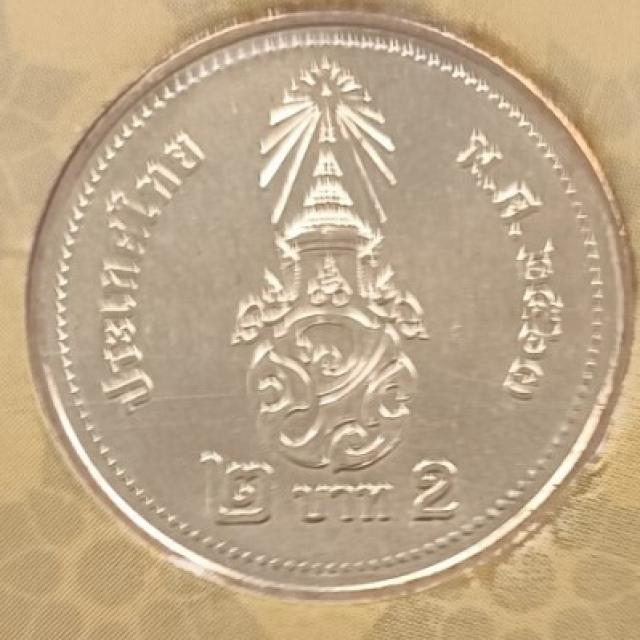2 Bath: (23, 11, 632, 603)
